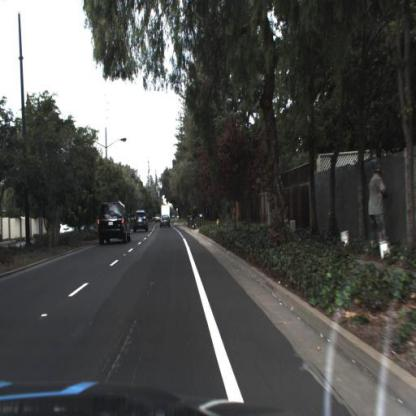car: (96, 197, 131, 247), (132, 205, 150, 233), (59, 217, 80, 234), (160, 211, 171, 230)
pedestrian: (367, 165, 389, 248)
truck: (159, 201, 172, 227)
